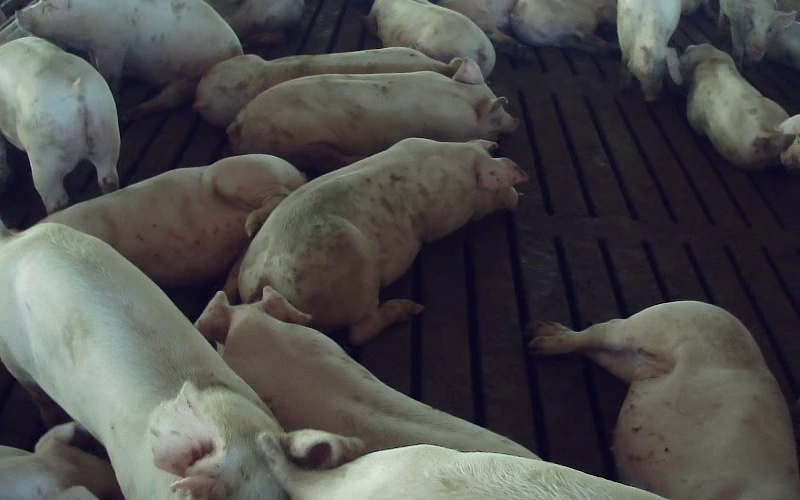pig: (195, 287, 536, 457), (238, 140, 525, 341), (530, 301, 799, 499), (43, 154, 304, 286), (227, 60, 517, 171), (16, 0, 242, 117), (260, 437, 663, 499), (193, 47, 461, 127), (680, 44, 787, 169), (368, 0, 495, 78), (617, 0, 681, 101)
